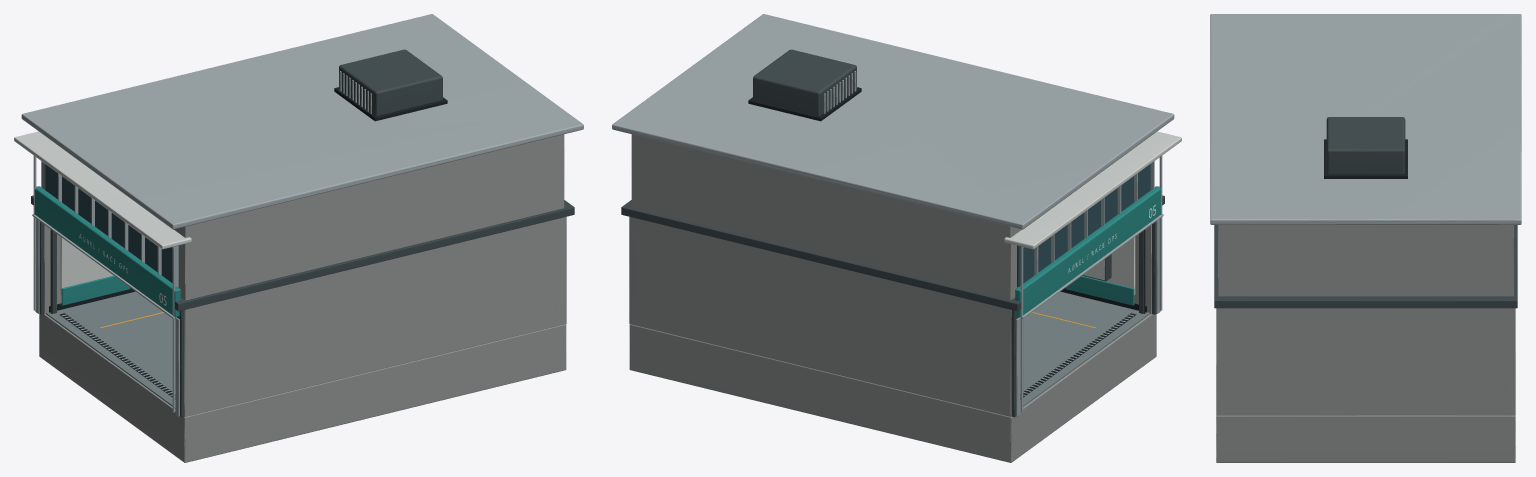
Rendered from aurel-hero-garage-bay.glb.
3 renders of one model, left to right at view 1: azimuth 30°, elevation 25°; view 2: azimuth 150°, elevation 25°; view 3: azimuth 270°, elevation 25°, orthographic. The views are drawn at different scales.
Parts seen in each view (by area): view 1: LOD0_GARAGE_Concrete, LOD0_GARAGE_BrushedAlloy, LOD0_GARAGE_AnodizedSteel, LOD0_GARAGE_EpoxyFloor, LOD0_GARAGE_CeramicCladding, LOD2_GARAGE_TeamEnamel, LOD2_GARAGE_CeramicCladding, LOD0_GARAGE_TeamEnamel, LOD0_GARAGE_UpperGlazing, LOD0_GARAGE_Gaskets; view 2: LOD0_GARAGE_Concrete, LOD0_GARAGE_BrushedAlloy, LOD0_GARAGE_AnodizedSteel, LOD0_GARAGE_EpoxyFloor, LOD0_GARAGE_CeramicCladding, LOD0_GARAGE_TeamEnamel, LOD0_GARAGE_UpperGlazing, LOD2_GARAGE_TeamEnamel, LOD2_GARAGE_CeramicCladding, LOD0_GARAGE_Gaskets; view 3: LOD0_GARAGE_Concrete, LOD0_GARAGE_BrushedAlloy, LOD0_GARAGE_AnodizedSteel, LOD0_GARAGE_Gaskets.
Boxes of the visible parts, <box> form: LOD0_GARAGE_Concrete: <box>39,134,566,462</box>; LOD0_GARAGE_BrushedAlloy: <box>21,14,583,416</box>; LOD0_GARAGE_AnodizedSteel: <box>31,49,574,417</box>; LOD0_GARAGE_EpoxyFloor: <box>46,291,175,408</box>; LOD0_GARAGE_CeramicCladding: <box>14,137,190,294</box>; LOD2_GARAGE_TeamEnamel: <box>35,186,179,316</box>; LOD2_GARAGE_CeramicCladding: <box>15,131,191,249</box>; LOD0_GARAGE_TeamEnamel: <box>35,186,180,317</box>; LOD0_GARAGE_UpperGlazing: <box>45,164,178,286</box>; LOD0_GARAGE_Gaskets: <box>49,87,447,399</box>; LOD0_GARAGE_Concrete: <box>629,134,1156,462</box>; LOD0_GARAGE_BrushedAlloy: <box>612,14,1174,416</box>; LOD0_GARAGE_AnodizedSteel: <box>621,49,1164,417</box>; LOD0_GARAGE_EpoxyFloor: <box>1020,291,1149,408</box>; LOD0_GARAGE_CeramicCladding: <box>1004,137,1181,294</box>; LOD0_GARAGE_TeamEnamel: <box>1015,202,1140,317</box>; LOD0_GARAGE_UpperGlazing: <box>1017,164,1150,286</box>; LOD2_GARAGE_TeamEnamel: <box>1020,186,1160,308</box>; LOD2_GARAGE_CeramicCladding: <box>1036,131,1180,238</box>; LOD0_GARAGE_Gaskets: <box>748,87,1146,399</box>; LOD0_GARAGE_Concrete: <box>1216,225,1515,462</box>; LOD0_GARAGE_BrushedAlloy: <box>1210,14,1521,224</box>; LOD0_GARAGE_AnodizedSteel: <box>1214,117,1517,308</box>; LOD0_GARAGE_Gaskets: <box>1324,139,1407,178</box>.
Bounding box in the file's own units: 14.31 × 8.83 × 8.94.
